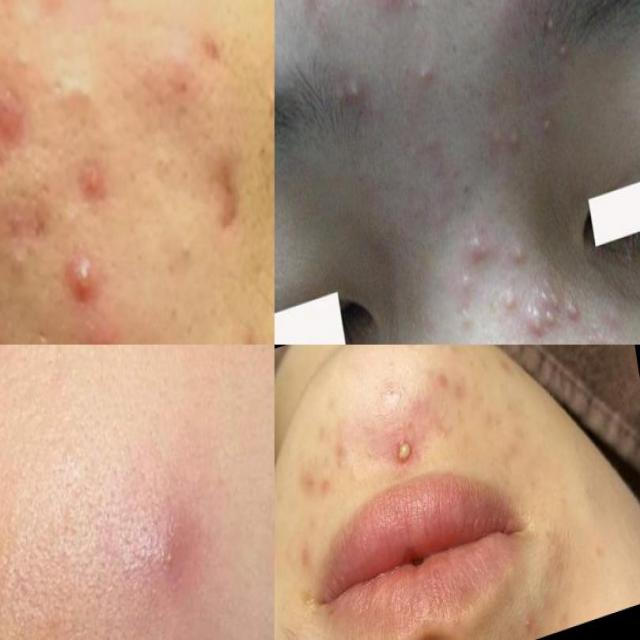8: (133, 500, 209, 612), (62, 313, 134, 345), (486, 276, 527, 330), (287, 0, 330, 25)
9: (455, 216, 497, 276), (383, 423, 422, 481), (340, 68, 374, 120), (560, 284, 587, 338), (499, 116, 528, 164), (502, 227, 530, 274), (534, 107, 562, 151), (538, 282, 562, 333), (451, 263, 477, 307), (536, 0, 560, 47), (523, 302, 549, 344), (414, 53, 436, 99), (369, 0, 417, 19), (520, 614, 536, 634)
blackheads: (54, 234, 111, 313)
dark spot: (448, 169, 485, 214)
